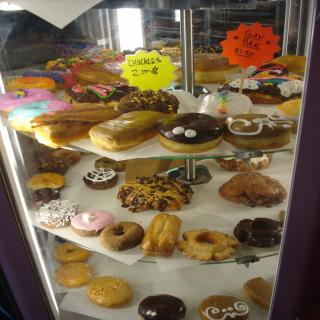Doughnut: (23, 148, 142, 247), (154, 111, 227, 152), (169, 227, 239, 263), (227, 114, 295, 148), (231, 217, 283, 246), (55, 241, 90, 262)
